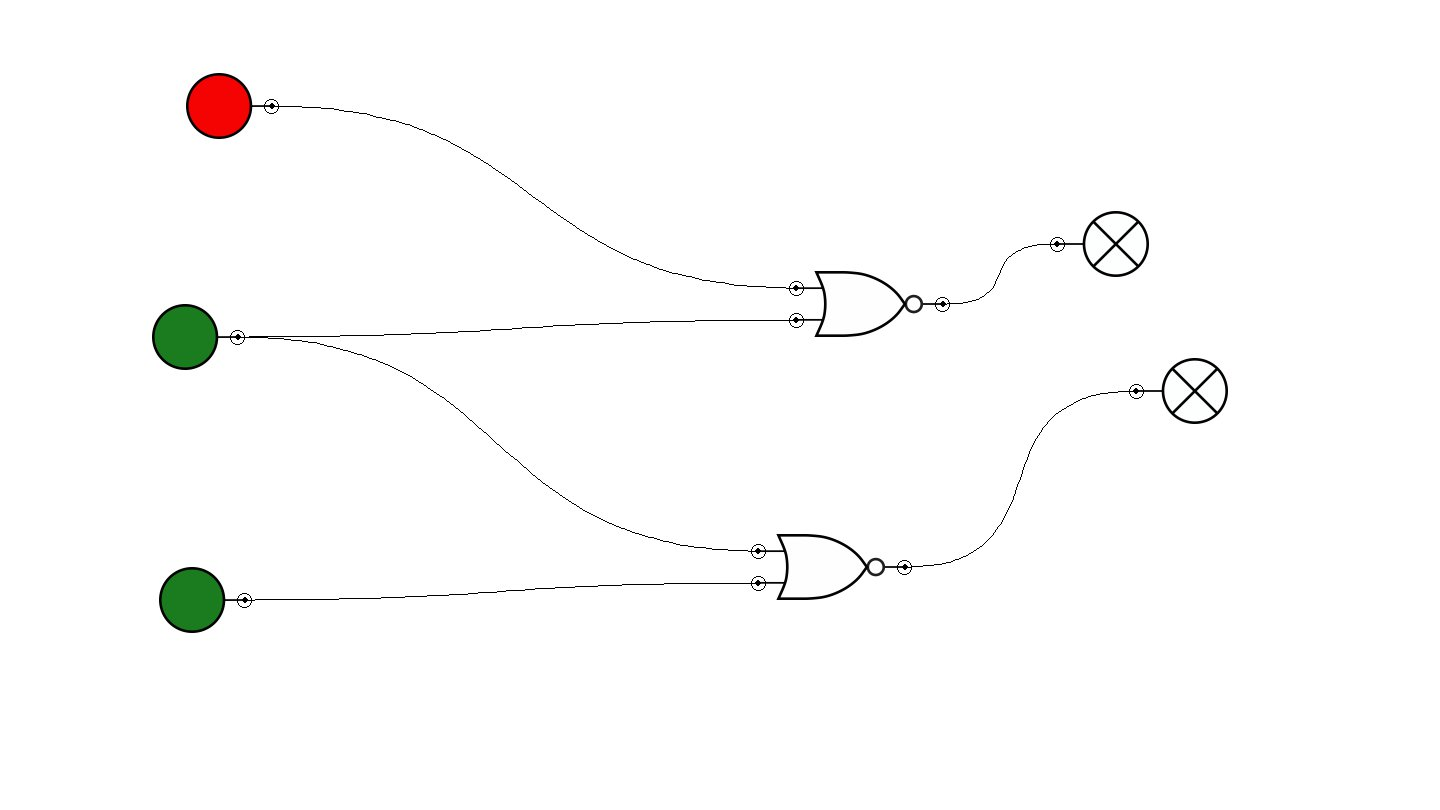bulb: (1129, 358, 1228, 424), (1050, 211, 1149, 277)
nor: (751, 534, 912, 600), (789, 271, 950, 337)
switch_False: (186, 73, 279, 139)
switch_True: (159, 567, 252, 633), (152, 304, 245, 370)
